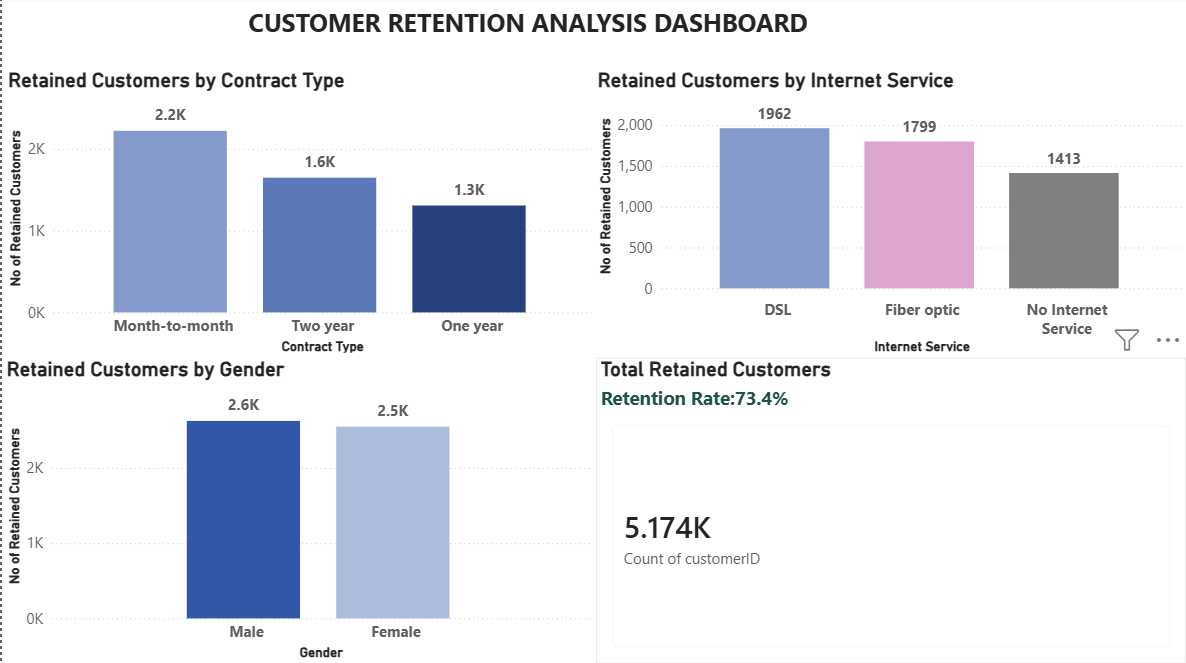

The page's visual inventory and layout, read from the dashboard file:
{"tool":"powerbi","page":{"name":"Page 2","canvas":[1280,720],"ordinal":1},"visuals":[{"type":"lineClusteredColumnComboChart","title":"Retained Customers by Contract Type","fields":{"Category":["Telco-Customer-Churn.Contract"],"Y":["CountNonNull(Telco-Customer-Churn.customerID)"]},"box":[1.9,77.5,636.9,311.8],"z":0},{"type":"lineClusteredColumnComboChart","title":"Retained Customers by Internet Service","fields":{"Category":["Telco-Customer-Churn.InternetService"],"Y":["CountNonNull(Telco-Customer-Churn.customerID)"]},"box":[634.7,77.7,644.5,312.5],"z":1},{"type":"lineClusteredColumnComboChart","title":"Retained Customers by Gender","fields":{"Category":["Telco-Customer-Churn.gender"],"Y":["CountNonNull(Telco-Customer-Churn.customerID)"]},"box":[1.9,389.3,636.9,330.7],"z":2},{"type":"cardVisual","title":"Total Retained Customers","fields":{"Data":["CountNonNull(Telco-Customer-Churn.customerID)"]},"box":[634.7,390.2,644.5,330.3],"z":3},{"type":"textbox","box":[69.6,4.9,1128.6,71.2],"z":4}]}

Visuals, with their boxes in screenshot pixels (x1, y1, x2, y2), scaled from the page's 1280x720 canvas onto the 1186x663 screenshot:
"Retained Customers by Contract Type" lineClusteredColumnComboChart: x1=2 y1=71 x2=592 y2=358
"Retained Customers by Internet Service" lineClusteredColumnComboChart: x1=588 y1=72 x2=1185 y2=359
"Retained Customers by Gender" lineClusteredColumnComboChart: x1=2 y1=358 x2=592 y2=662
"Total Retained Customers" cardVisual: x1=588 y1=359 x2=1185 y2=662
textbox: x1=64 y1=5 x2=1110 y2=70
